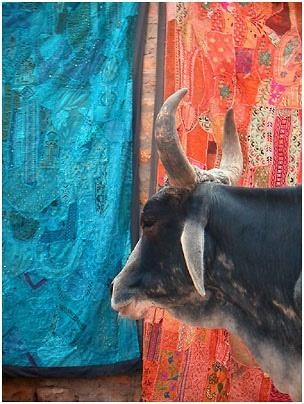cow: (113, 89, 304, 401)
